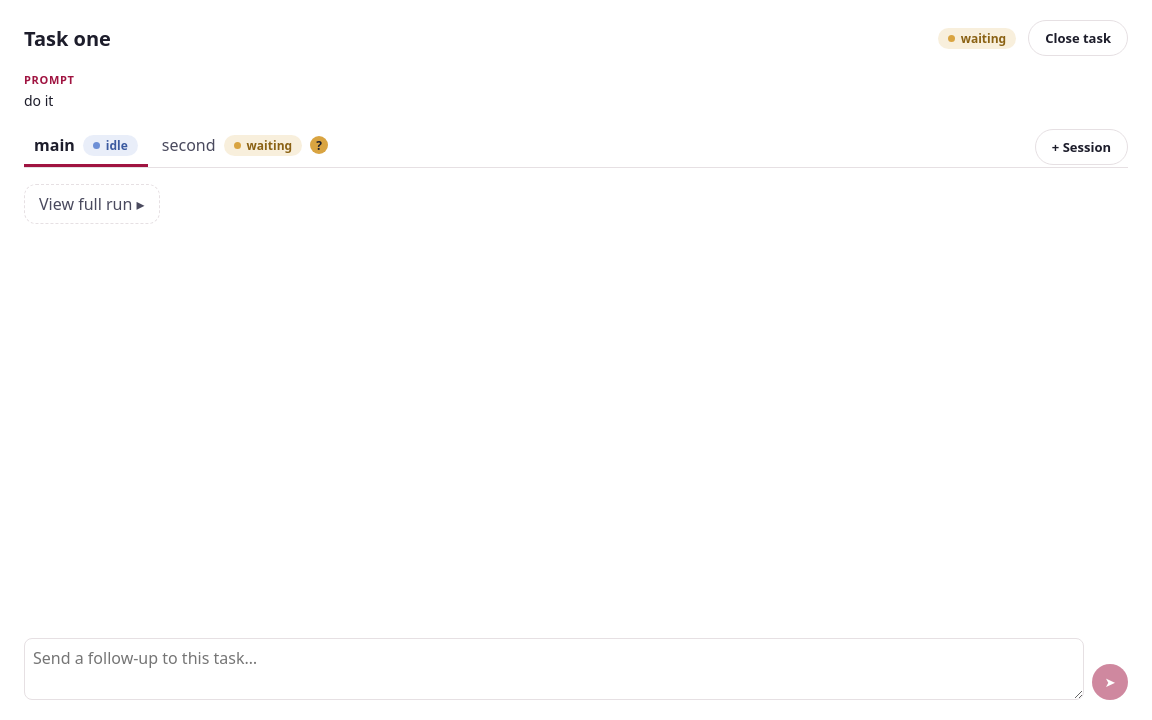
Test: session tabs › marks a tab with an open question and shows only that session questions
This screenshot has width=1152, height=720.
Check: the picture named "open question" is shown, box [310,136,328,154]
Check: the text "Question for second?" is not shown
Click the tab with test id "session-tab-second" at (245, 146), box [152,126,338,167]
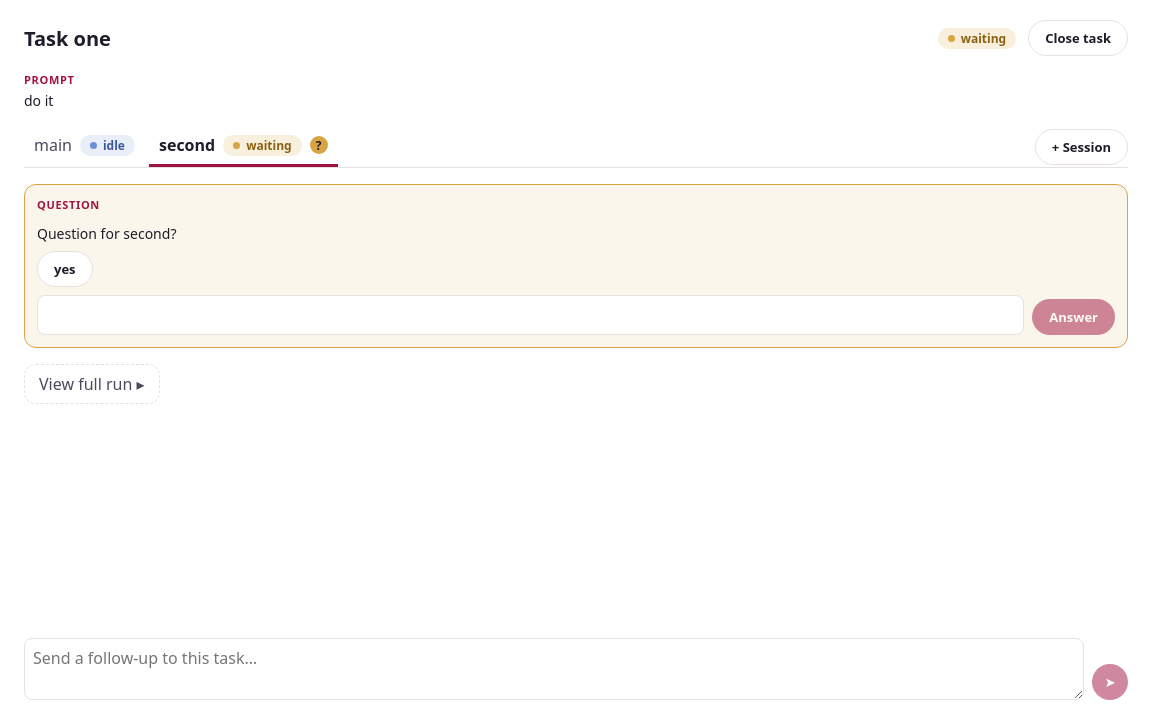
Check: the text "Question for second?" is shown, box [37,224,176,243]
